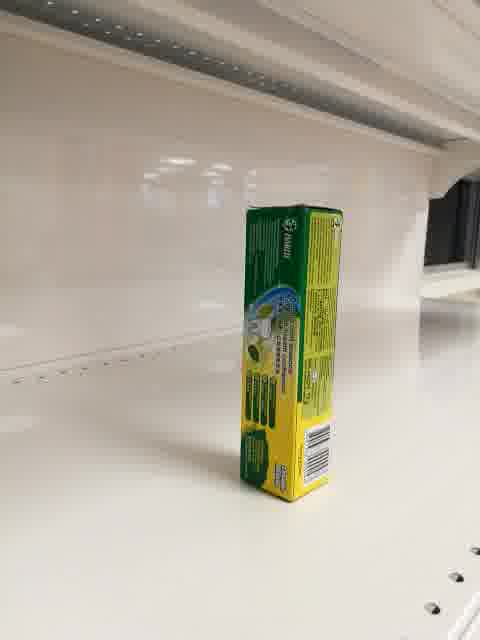toothpaste: (240, 205, 342, 503)
